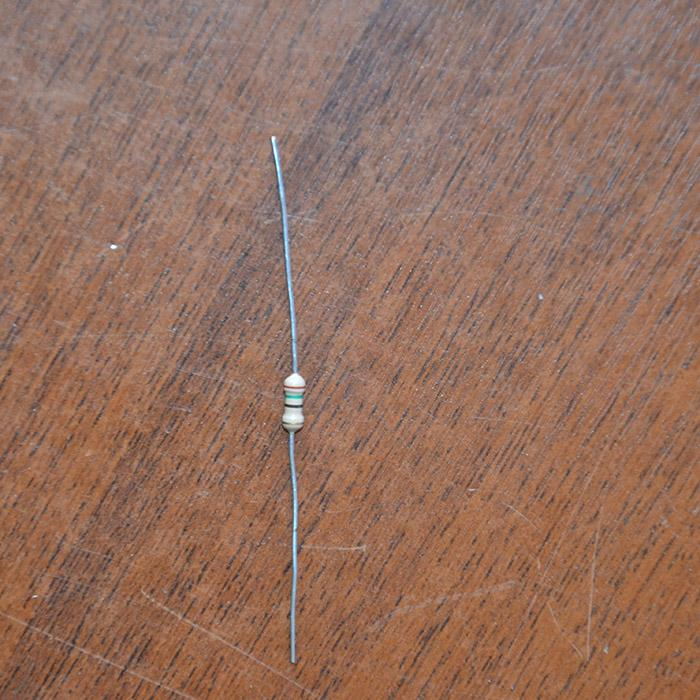resistor: (281, 371, 306, 430)
